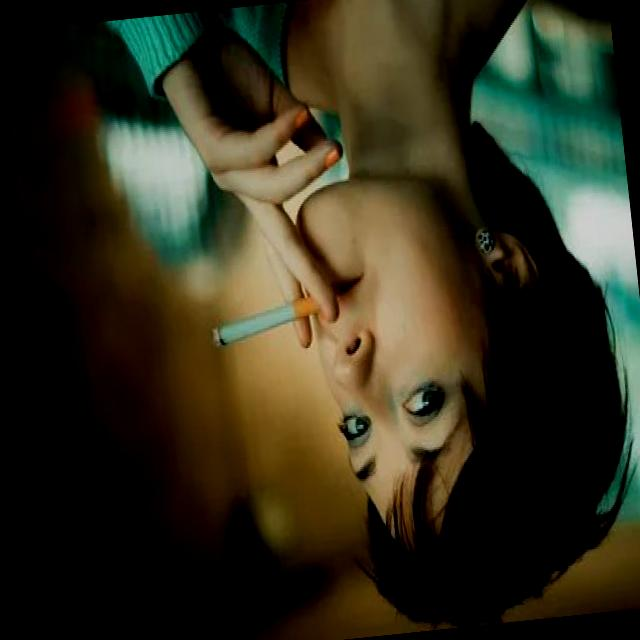smoke: (200, 278, 344, 356)
